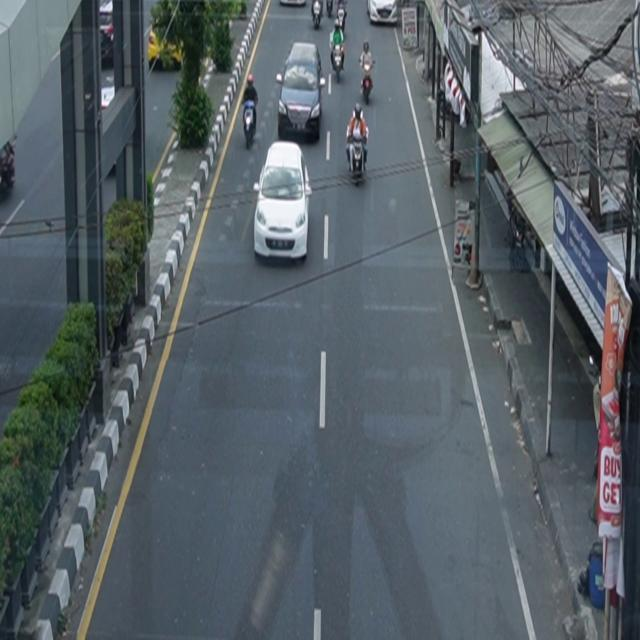car: (254, 141, 313, 263), (277, 43, 325, 142), (368, 1, 399, 26)
